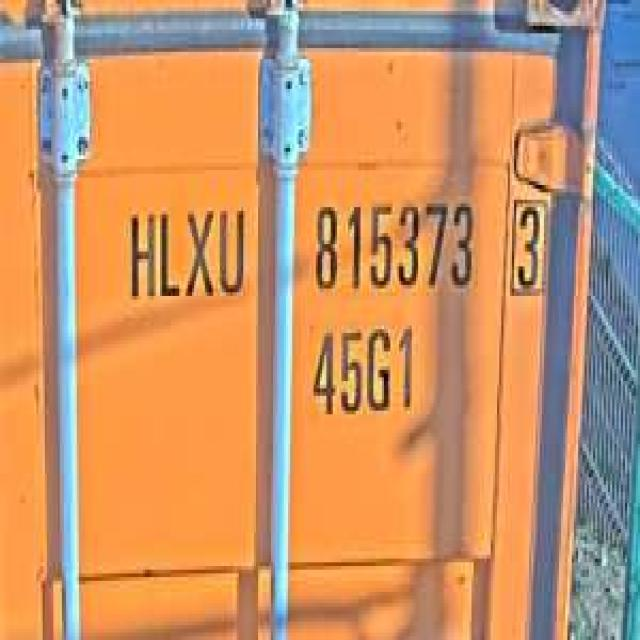dv: (506, 188, 554, 303)
owner: (121, 192, 248, 311)
serial: (307, 185, 478, 303)
size: (307, 314, 418, 426)
